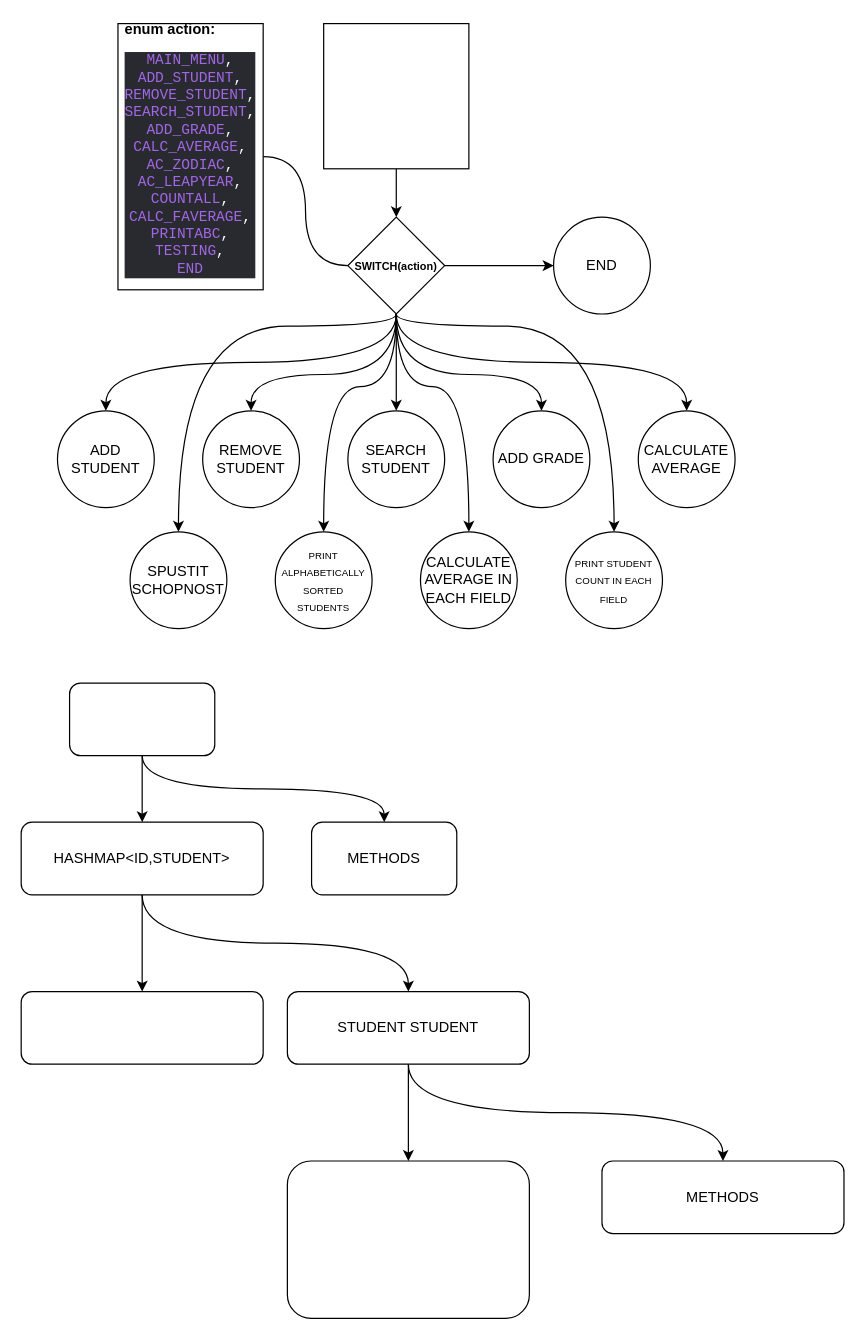
Image size: 865x1339. Some labels were removed from this diagram. Each missing label, with the box of its shape:
DATABASE: (68, 682, 215, 756)
FIRST NAME LAST NAME ...... LIST<GRADE>: (286, 1160, 529, 1318)
MENU: (322, 22, 469, 169)
STRING STUDENT ID: (20, 990, 263, 1064)
